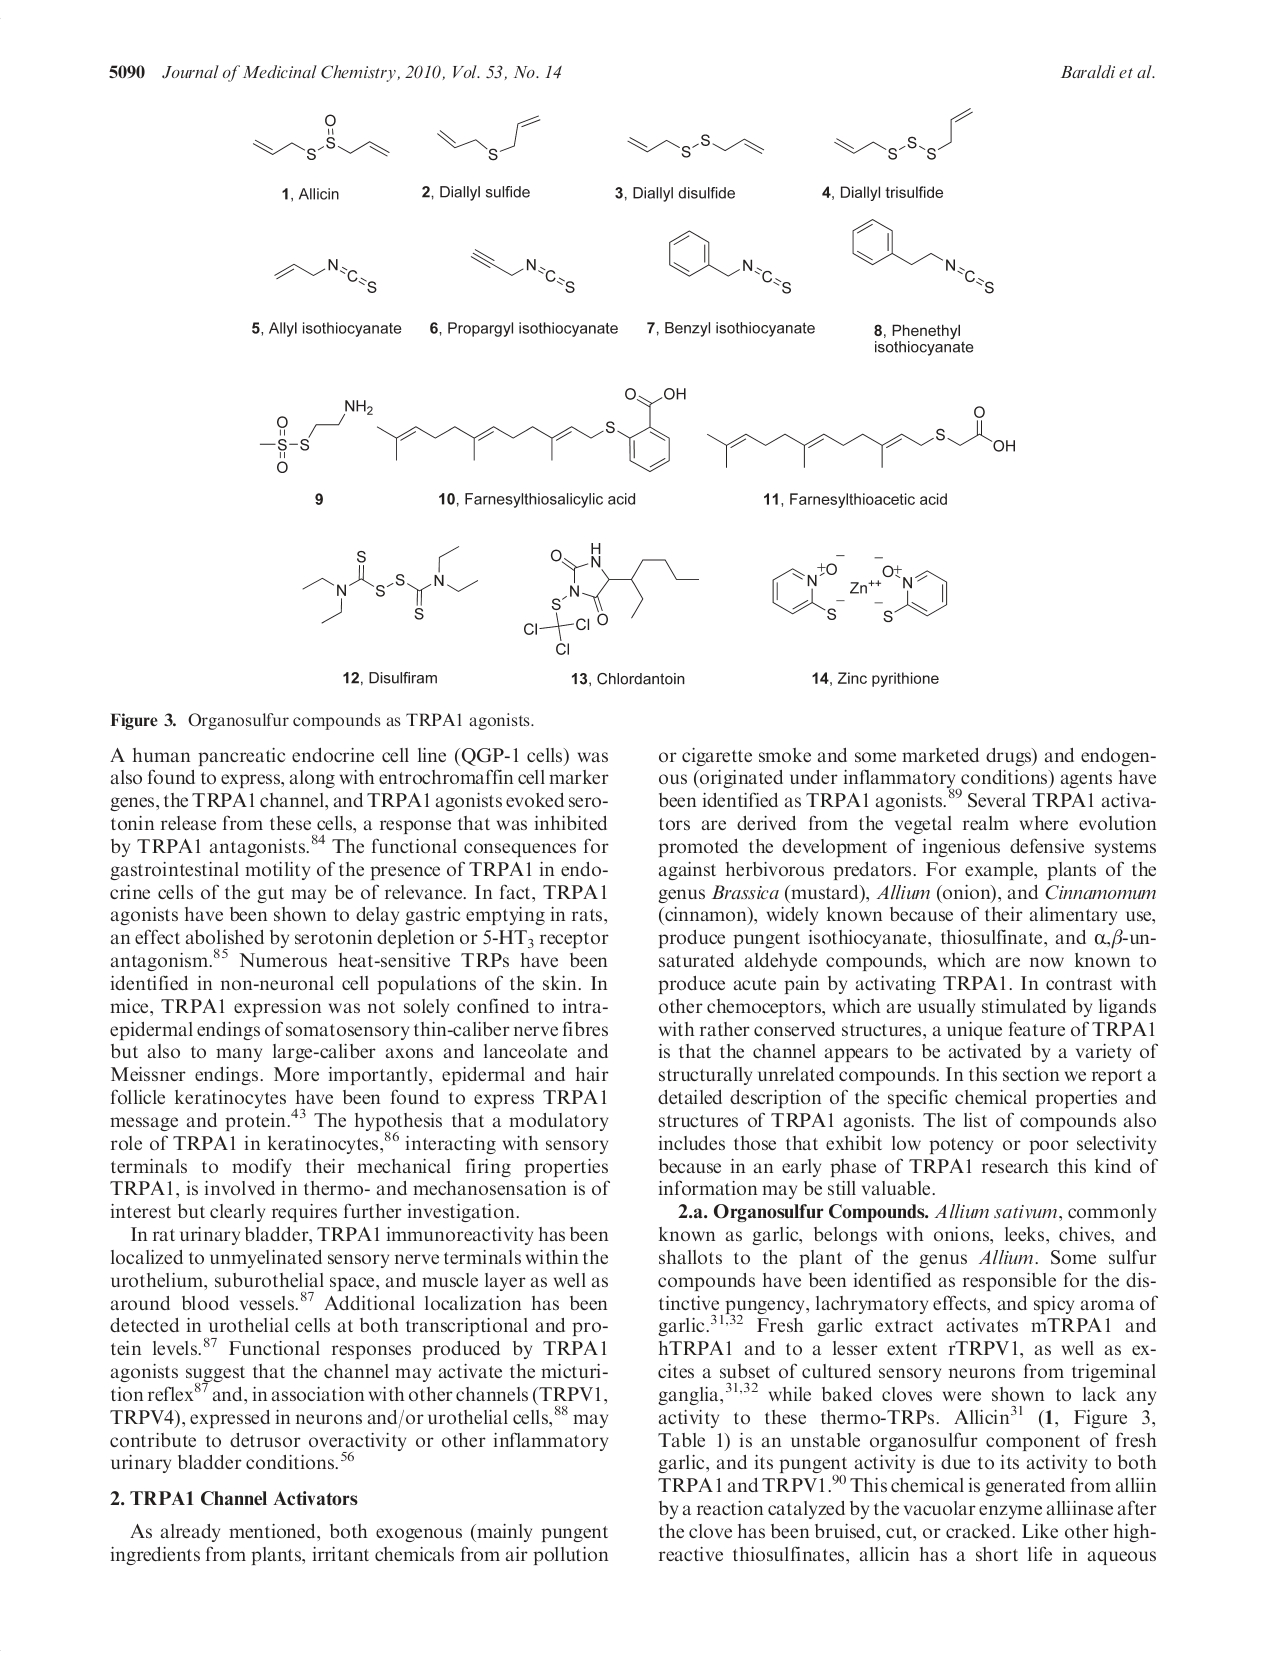exist_molecular: (378, 376, 697, 488), (699, 398, 1032, 484), (519, 535, 703, 660), (765, 540, 960, 634), (301, 543, 485, 632), (844, 207, 1016, 302), (646, 219, 801, 298), (822, 102, 985, 172), (247, 106, 395, 182), (251, 391, 376, 475), (427, 110, 551, 176), (465, 243, 588, 293), (265, 253, 390, 293), (626, 132, 773, 165)
